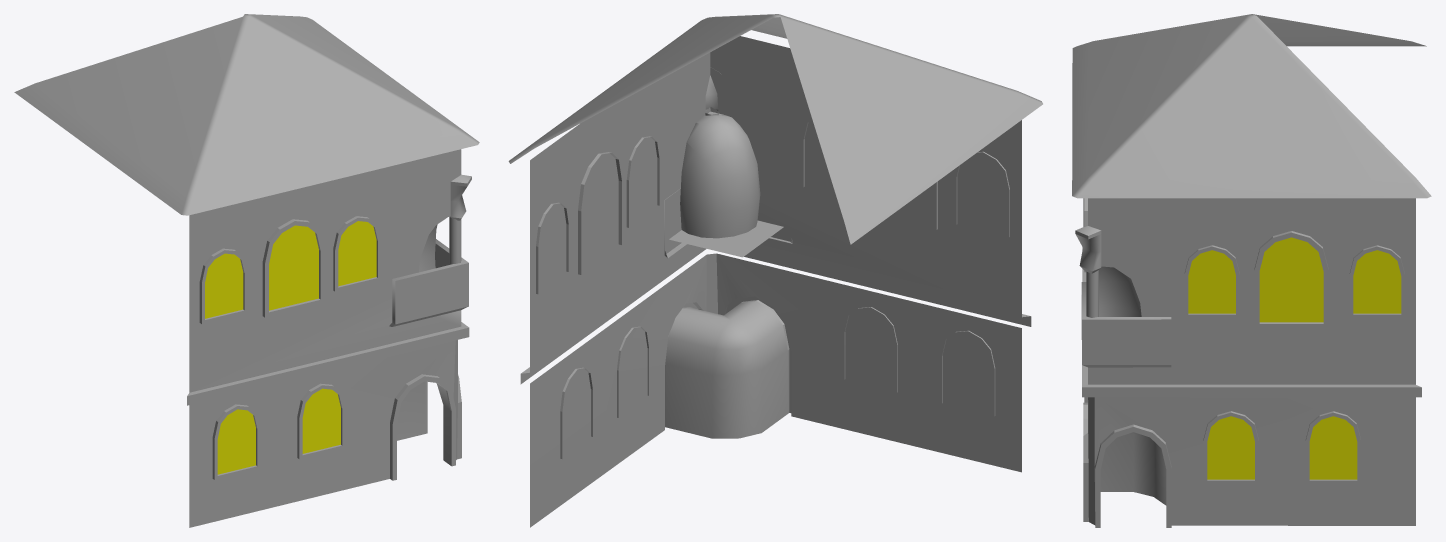
File: Bank.fbx
3 renders of one model, left to right at view 1: azimuth 30°, elevation 25°; view 2: azimuth 150°, elevation 25°; view 3: azimuth 270°, elevation 25°, orthographic. The views are drawn at different scales.
Visible parts, largest first — view 1: polySurface41; view 2: polySurface41; view 3: polySurface41.
Part boxes in pixels (left/top/right/bottom): polySurface41: left=14, top=14, right=479, bottom=527; polySurface41: left=508, top=14, right=1042, bottom=527; polySurface41: left=1072, top=14, right=1431, bottom=527.
Size of the model in its own units: 7.54 by 10.18 by 7.53.
